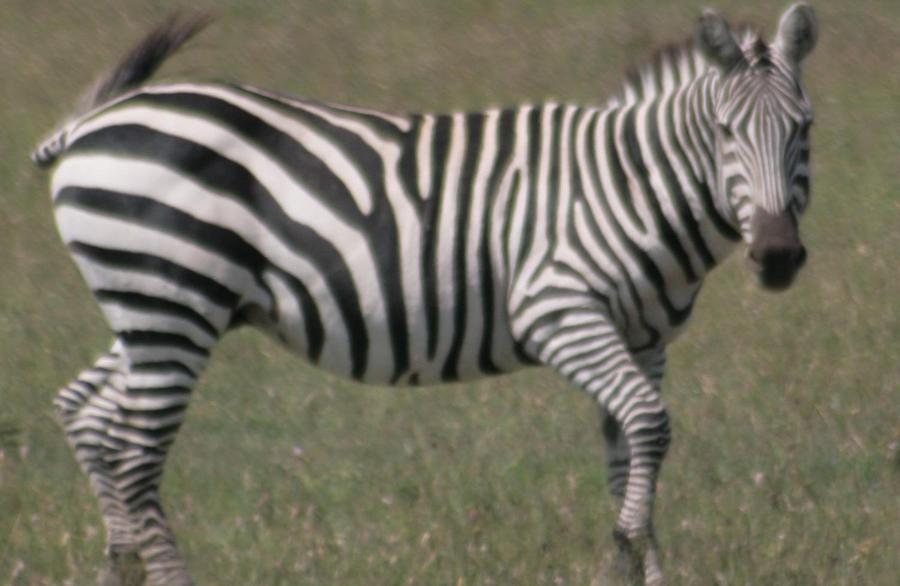zebra_plains: (51, 53, 676, 382)
